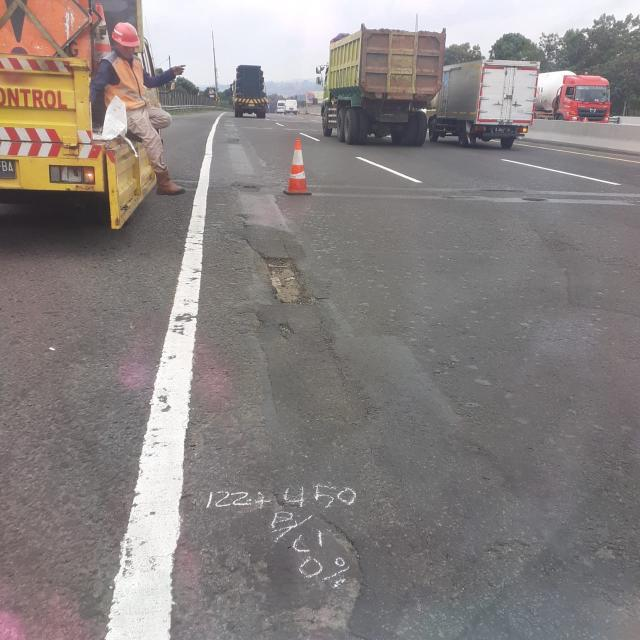Buraco: (252, 248, 322, 307), (229, 179, 269, 195), (275, 320, 297, 345), (520, 196, 549, 204)
